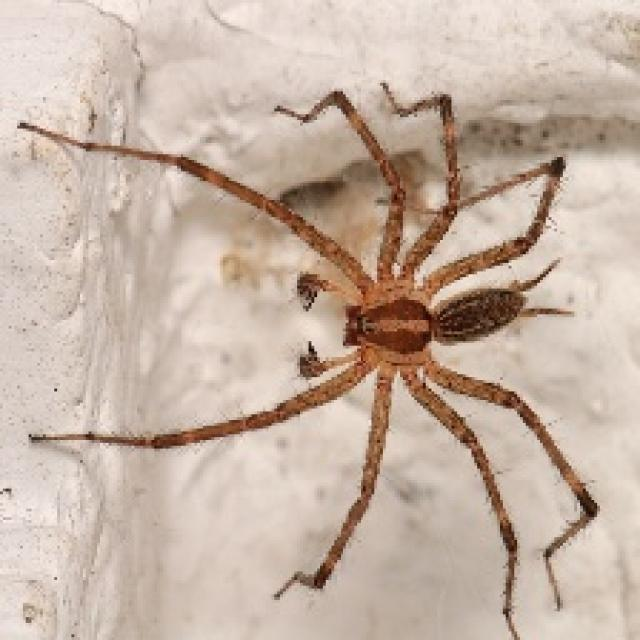Non venomous spider: (45, 65, 603, 611)
